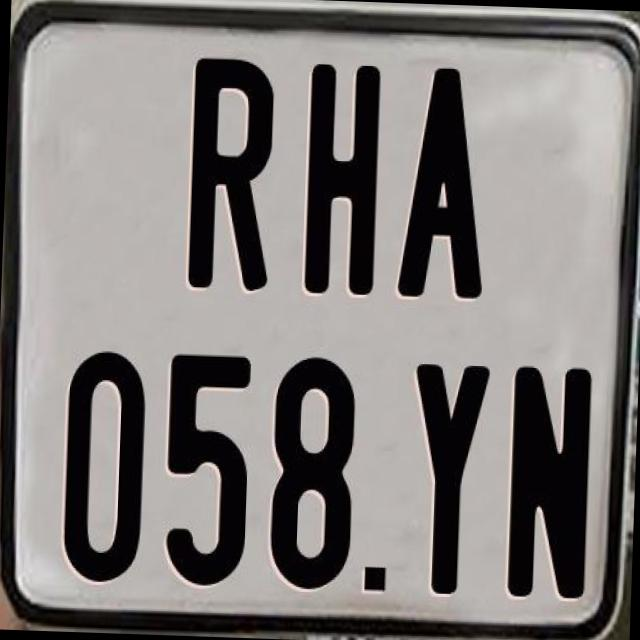0: (57, 350, 144, 592)
5: (159, 350, 252, 583)
8: (266, 352, 358, 594)
A: (396, 64, 496, 302)
H: (300, 58, 384, 300)
N: (506, 360, 596, 595)
R: (185, 54, 272, 297)
Y: (406, 362, 494, 594)
